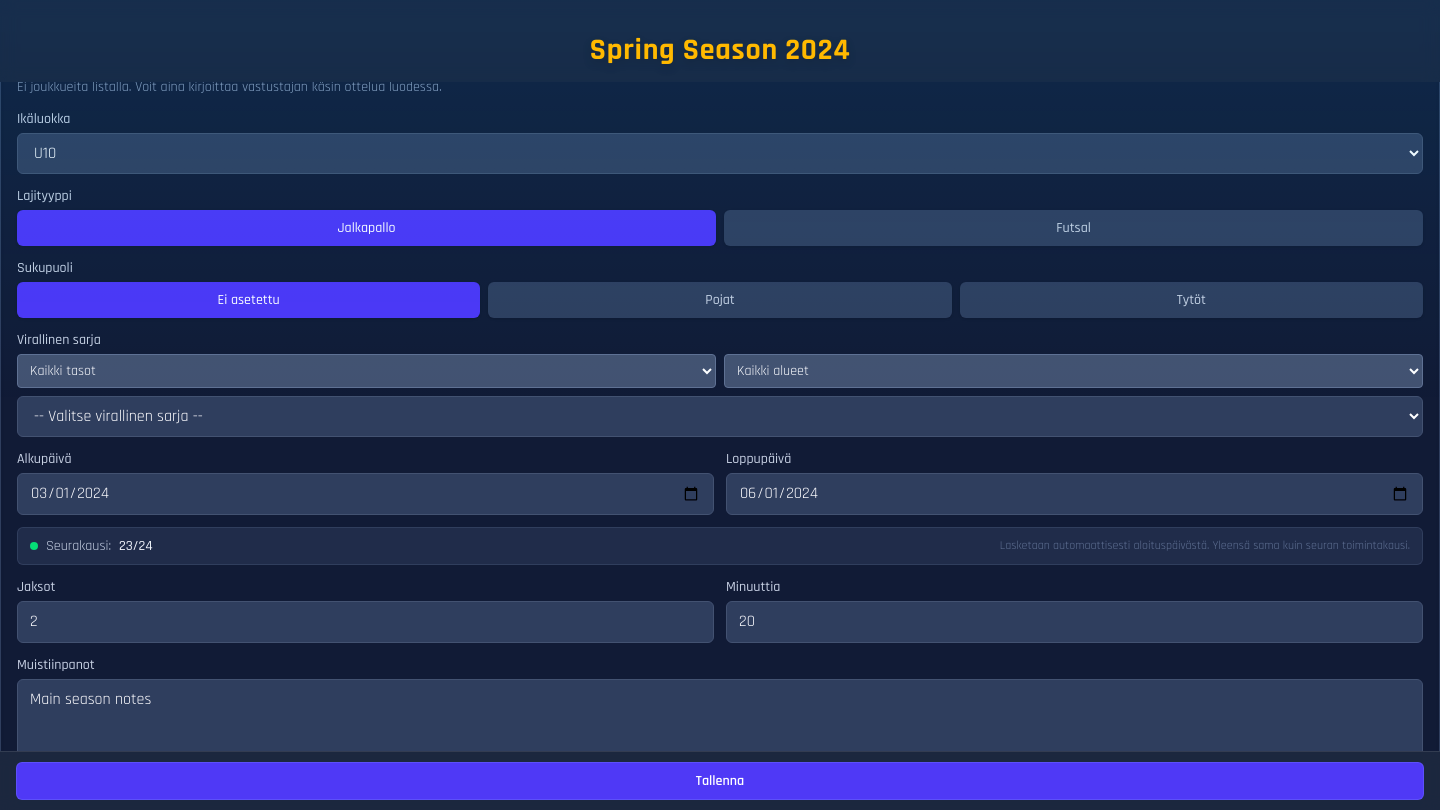
Test: SeasonDetailsModal › League Selection › shows custom league input when "Muu" is selected
(page scrolled)
Check: the field with placeholder "Kirjoita virallisen sarjan nimi" is not shown
Select "Muu (vapaa kuvaus)" - find select by ID
Select "Muu (vapaa kuvaus)" in the dropdown with id "season-league" at coordinates (720, 416), box [17,396,1423,436]
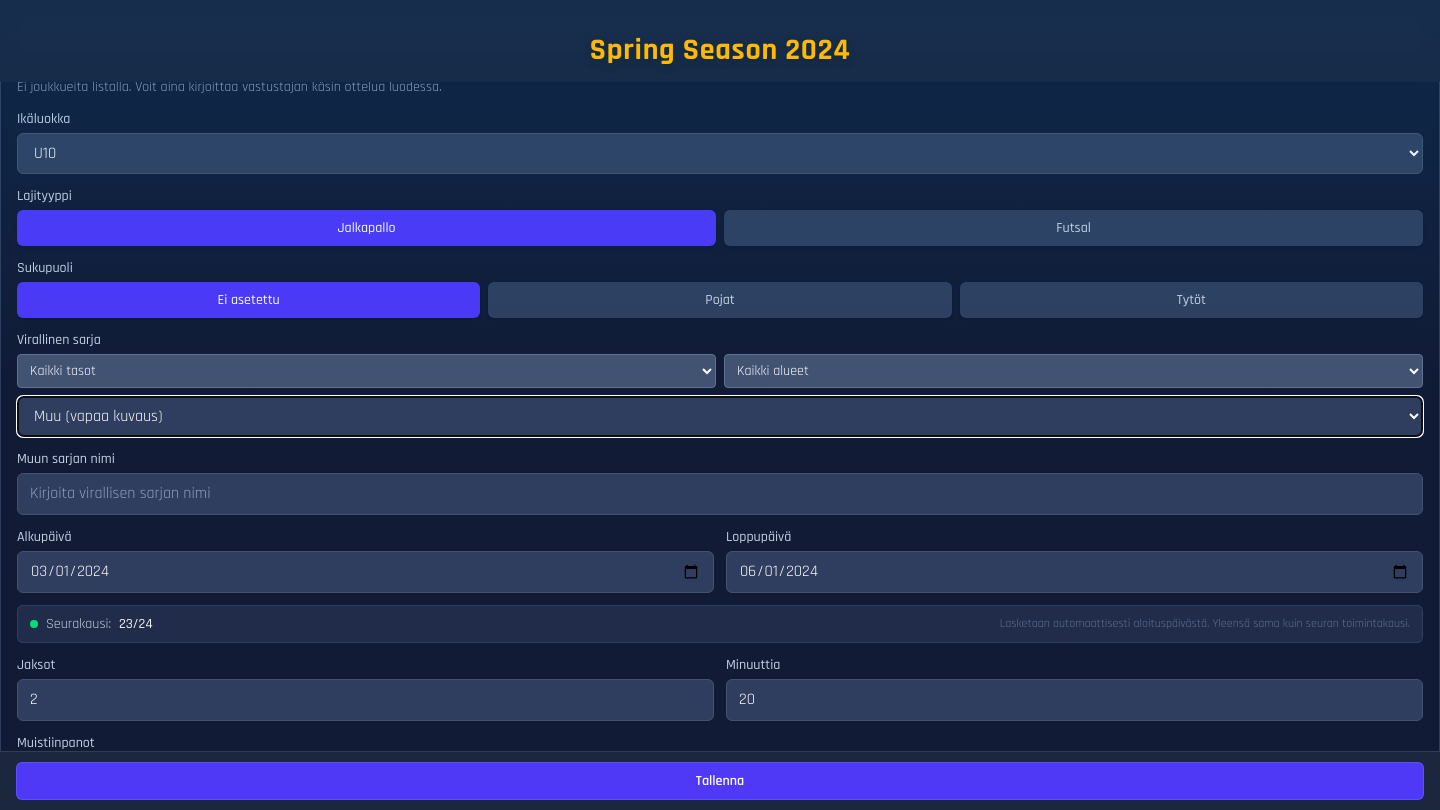
Check: the field with placeholder "Kirjoita virallisen sarjan nimi" is shown, box [17,472,1423,514]
